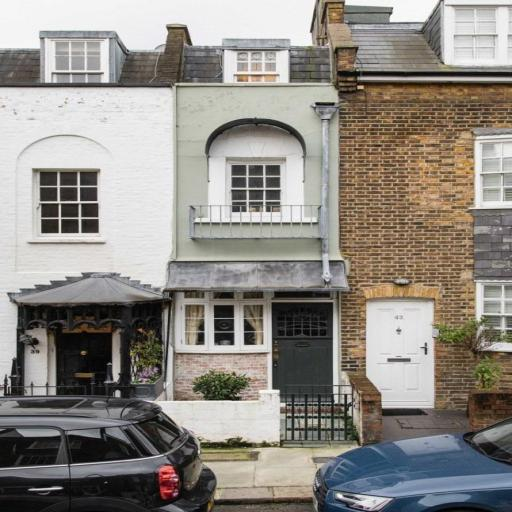door: (258, 299, 358, 415)
